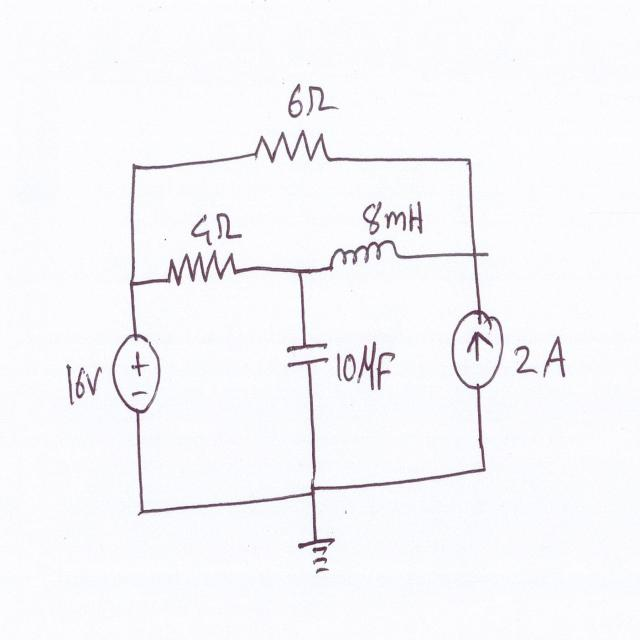capacitor: (285, 336, 333, 376)
current_source: (448, 303, 507, 393)
ground: (294, 535, 340, 580)
inductor: (326, 239, 398, 273)
resistor: (252, 128, 329, 175), (163, 246, 240, 292)
voltage_source: (108, 326, 163, 420)
